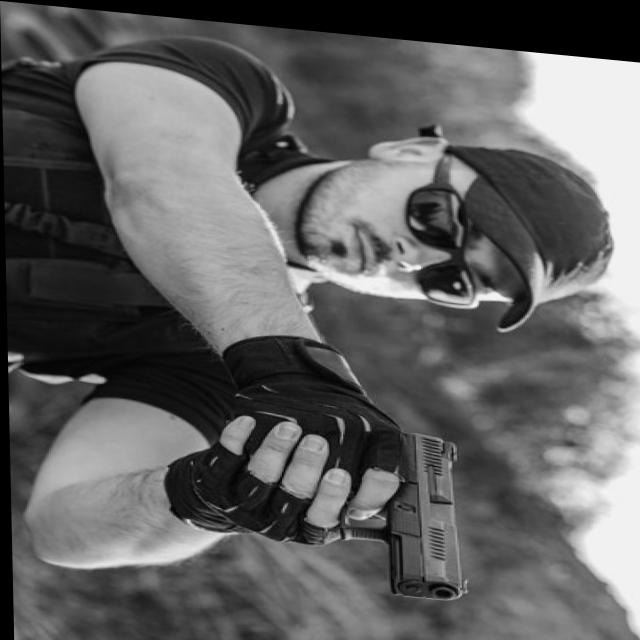handgun: (334, 419, 463, 597)
